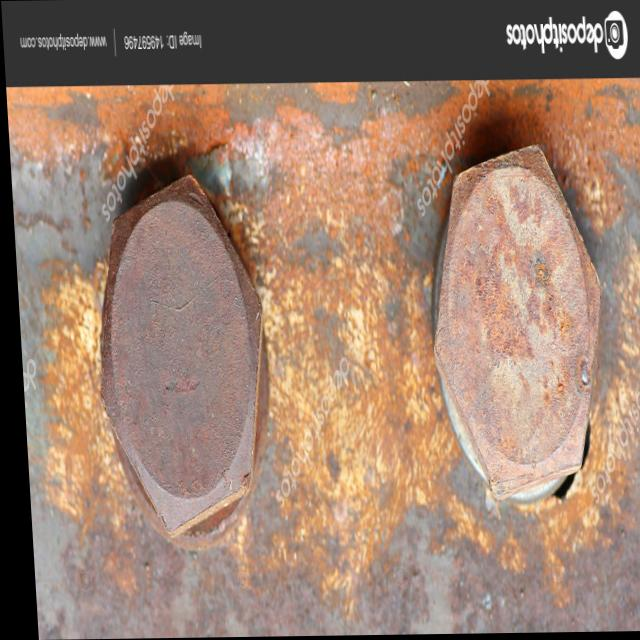Rusty bolt: (85, 172, 271, 548), (418, 141, 610, 505)
